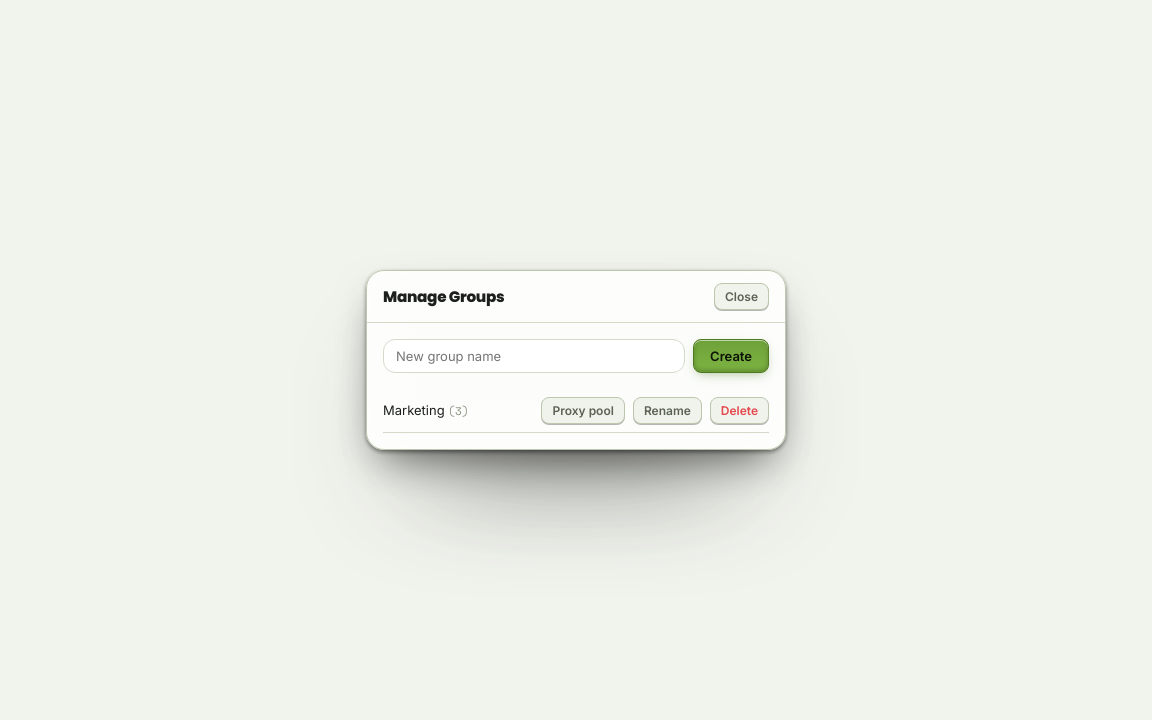
Test: GroupsModal › clicking Proxy pool loads and displays the group's current pool from groups:getProxyPool
This screenshot has width=1152, height=720.
Click the button "Proxy pool" at (583, 410), box x1=541 y1=397 x2=625 y2=424
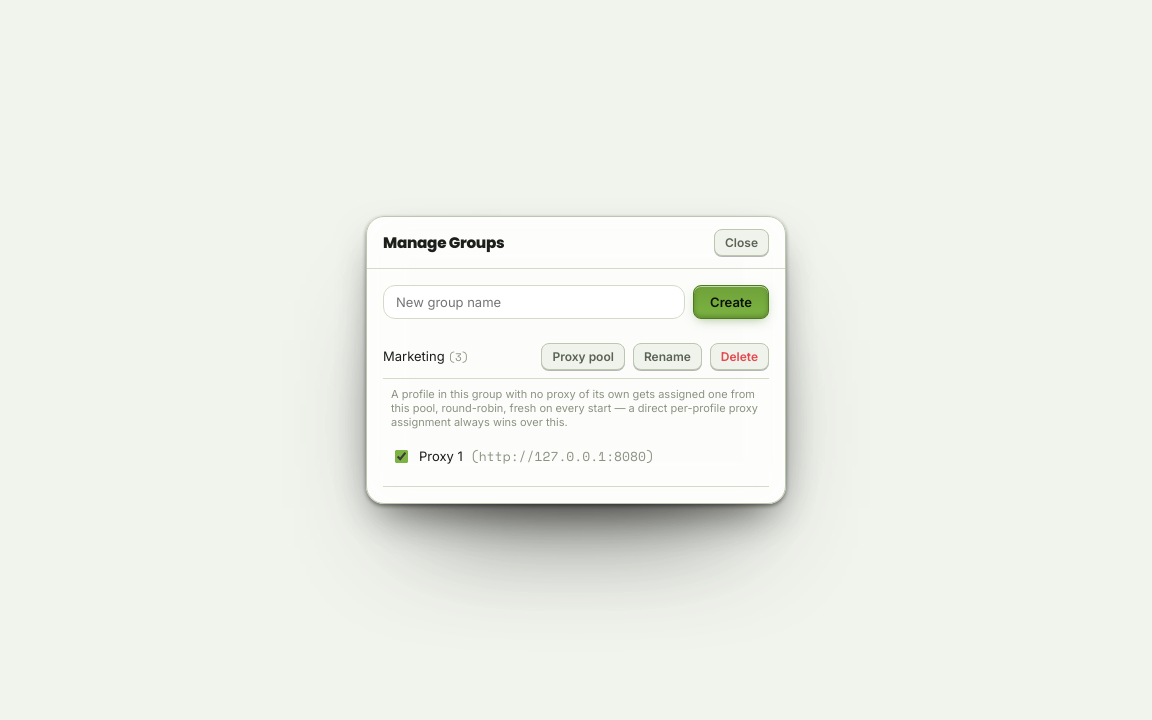
Expected: the checkbox is checked, x1=395 y1=450 x2=408 y2=462
